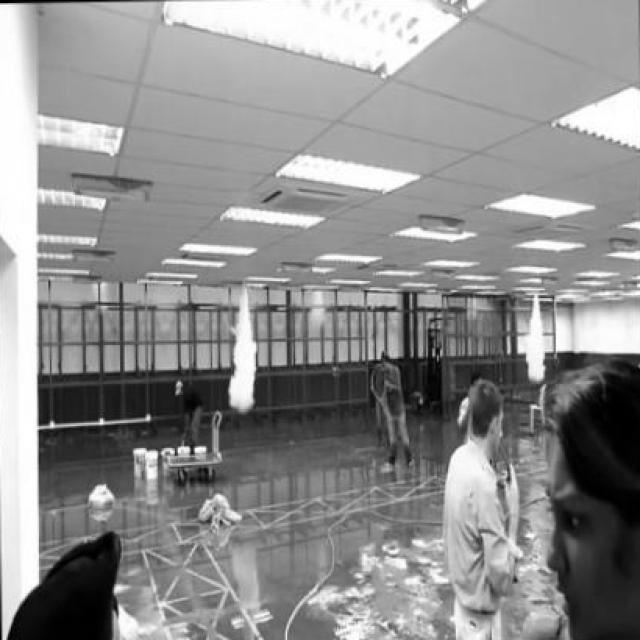fire: (226, 284, 258, 417), (522, 298, 549, 392)
